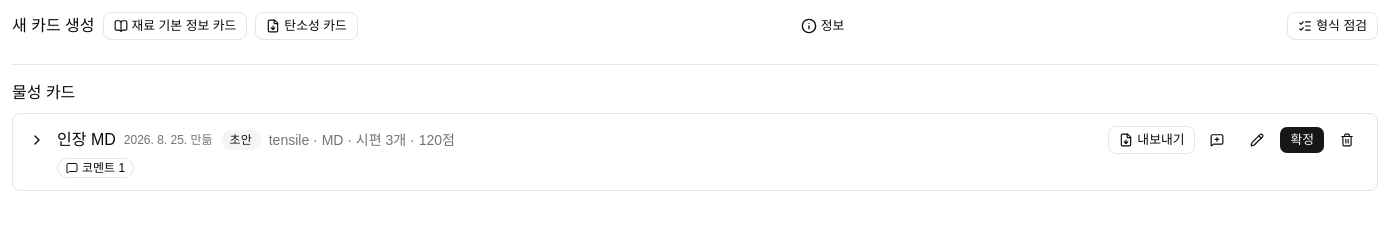
Scenario: 카드 번호 · 코멘트 › AI 가 남긴 코멘트는 이름 곁에 경유를 적는다
Click the button named "인장 MD 펼치기": (37, 140) [25, 128, 49, 152]
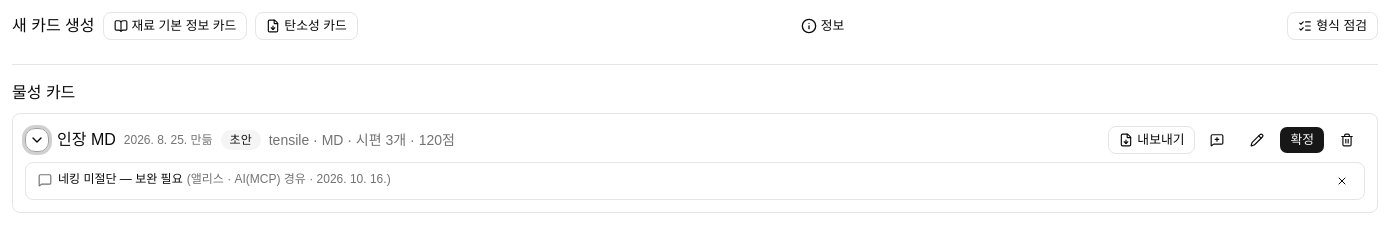
Expected: the text "네킹 미절단 — 보완 필요" is shown, [58, 172, 183, 186]
Expected: the text "(앨리스 · AI(MCP) 경유 · 2026. 10. 16.)" is shown, [187, 172, 391, 186]
